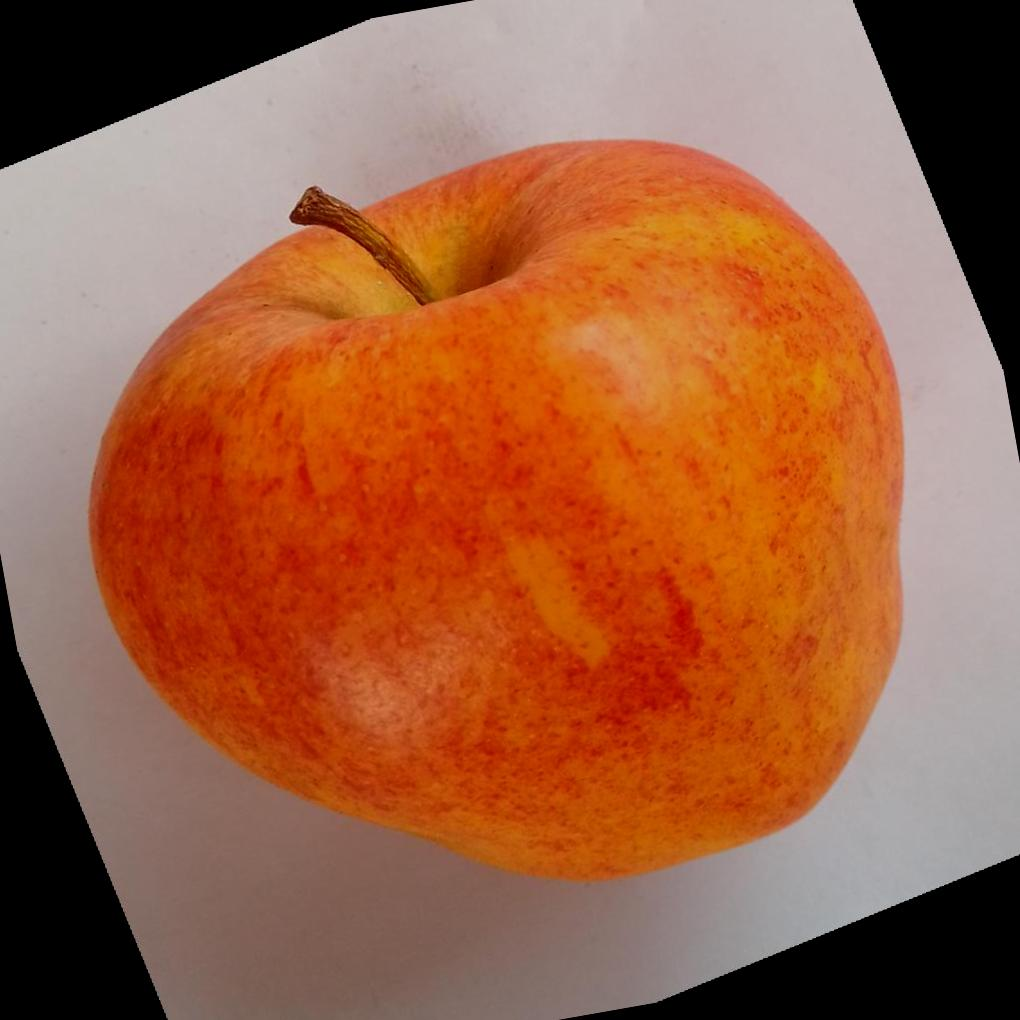FreshGuava: (90, 135, 910, 884)
